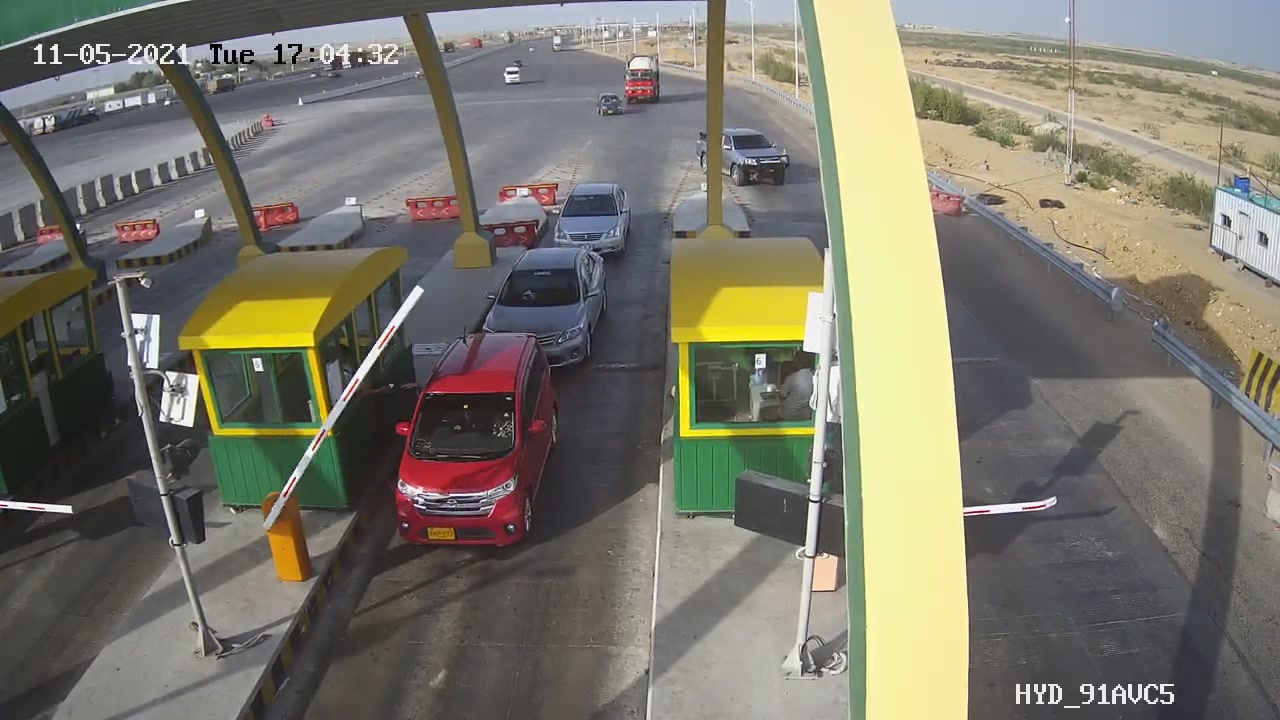F1: (370, 317, 566, 570), (535, 168, 652, 277)
